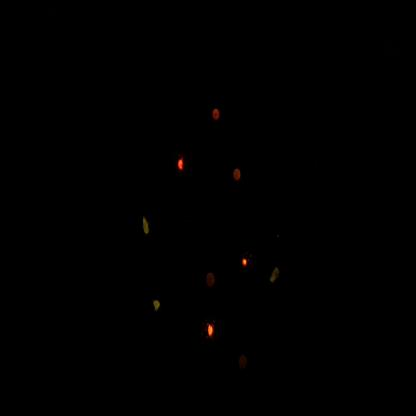PP: (267, 257, 287, 292), (139, 209, 155, 248), (150, 291, 167, 320)
PS: (209, 99, 225, 137), (202, 268, 221, 293), (238, 340, 251, 376), (231, 160, 247, 188)
PVC: (201, 313, 222, 347), (174, 146, 191, 181), (239, 248, 253, 280)
